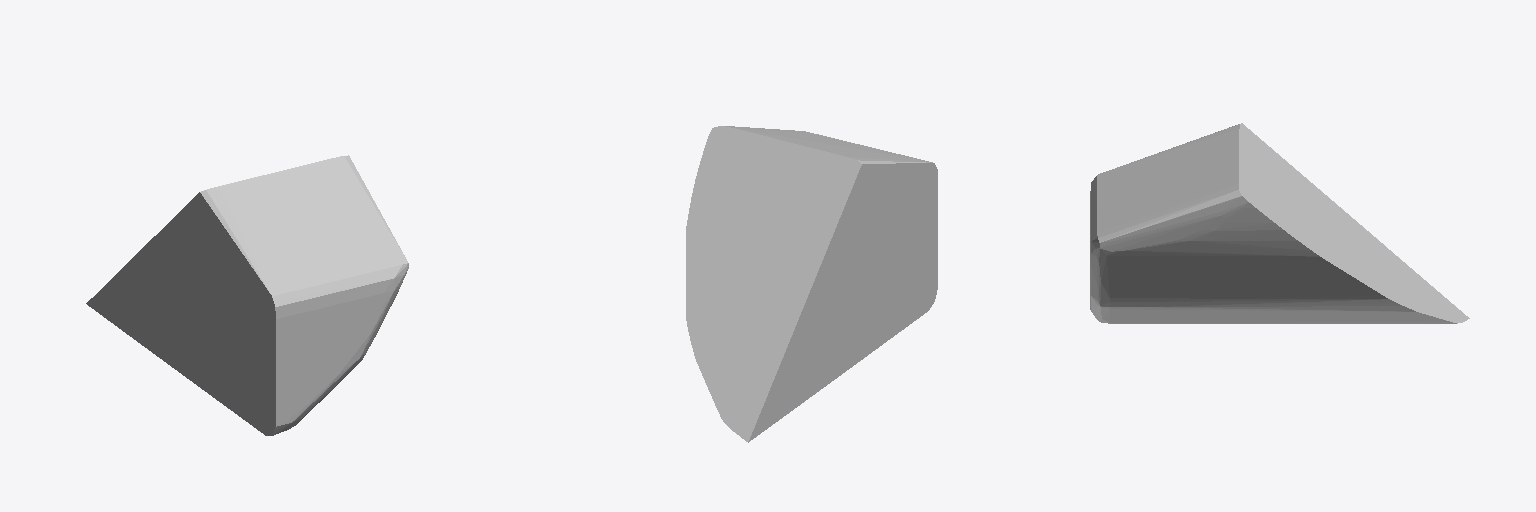
The model's file is Carbon_Mov_Finger_021_v1_1_mesh_collision_8.obj.
The picture shows the model from 3 angles: view 1: azimuth 30°, elevation 25°; view 2: azimuth 150°, elevation 25°; view 3: azimuth 270°, elevation 25°; orthographic projection.
Bounding box in the file's own units: 0.0032 × 0.0041 × 0.0071.